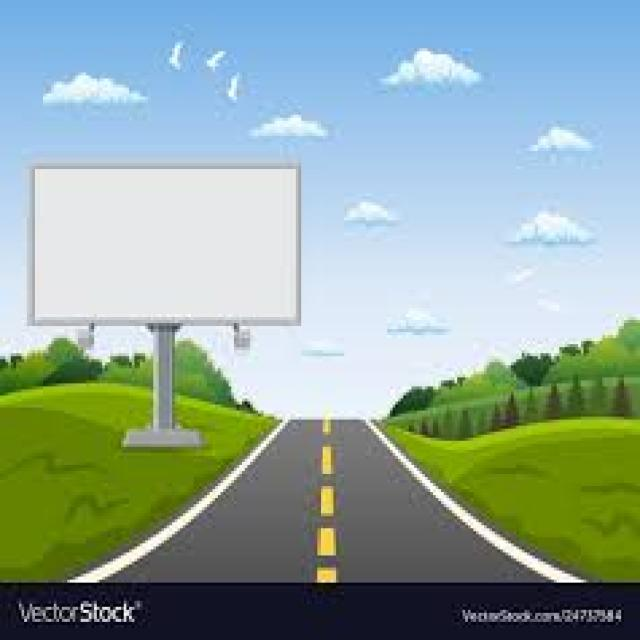Billboard_LHS: (21, 158, 324, 342)
Roadcorner: (60, 414, 291, 582), (376, 451, 587, 587)
Roadlane: (308, 411, 350, 584)
